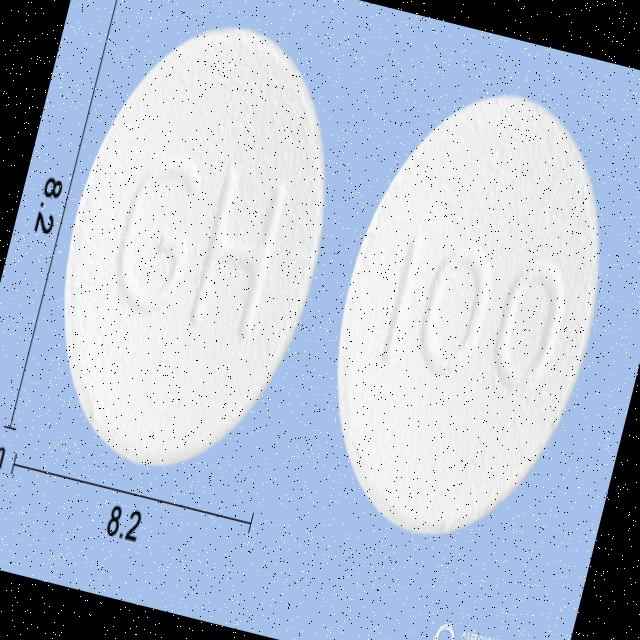Levona -500mg: (18, 0, 368, 496), (294, 63, 640, 564)
